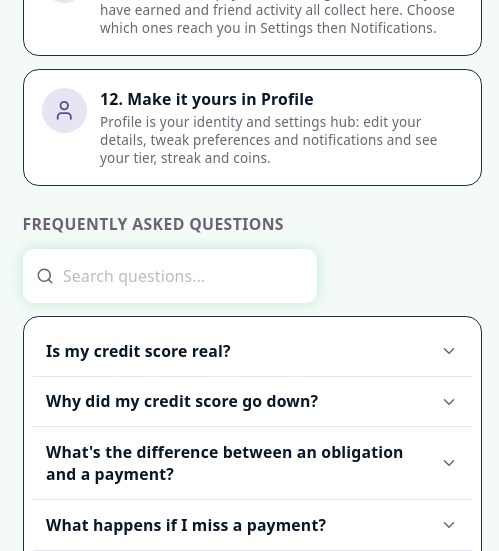
Test: HelpPage › expands an answer on click and collapses it on second click
(page scrolled)
Click the button "Is my credit score real?" at (138, 351), box [32, 326, 472, 376]
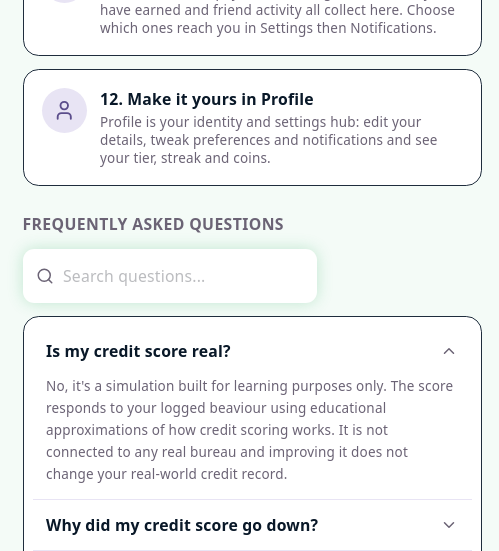
Check: the button "Is my credit score real?" is expanded
Check: the text "simulation built for learning" is shown, box [46, 377, 453, 483]
Click the button "Is my credit score real?" at (138, 351), box [32, 326, 472, 376]
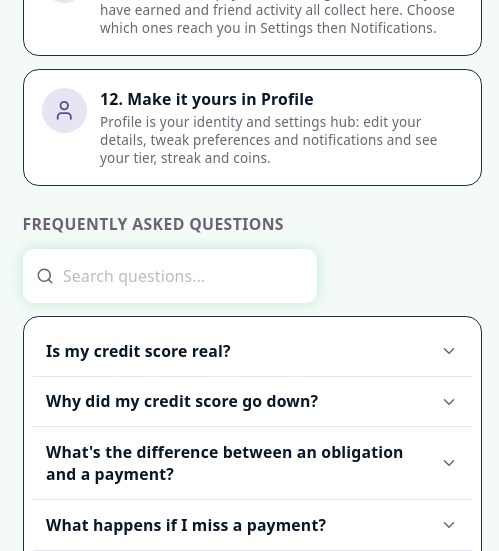
Check: the button "Is my credit score real?" is collapsed, box [32, 326, 472, 376]
Check: the text "simulation built for learning" is gone
